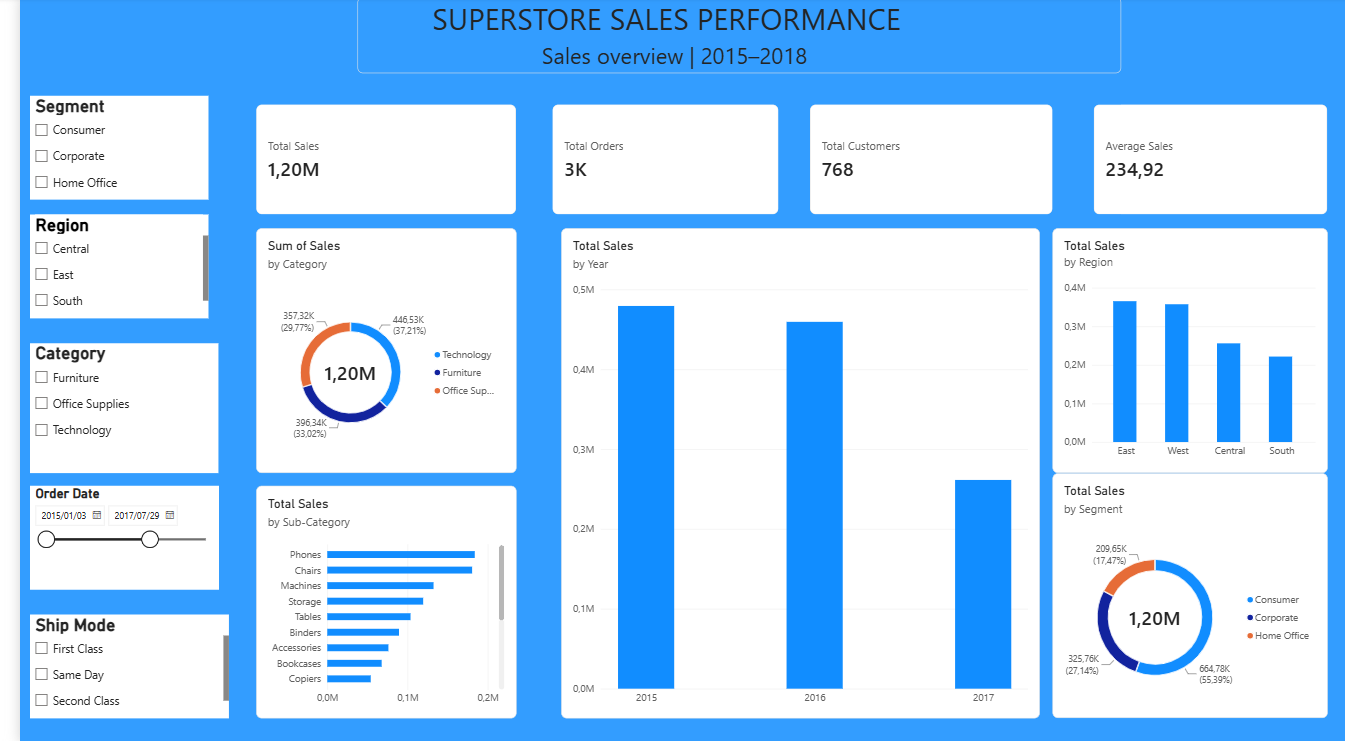

The page's visual inventory and layout, read from the dashboard file:
{"tool":"powerbi","page":{"name":"Page 1","canvas":[1920,1080],"ordinal":0},"visuals":[{"type":"textbox","box":[488.6,0,1105.7,110.4],"z":0},{"type":"cardVisual","fields":{"Data":["Superstore.Total Sales"]},"box":[342,155.6,376.4,159.3],"z":1},{"type":"cardVisual","fields":{"Data":["Superstore.Total Orders"]},"box":[770.9,155.6,327.5,159.3],"z":2},{"type":"cardVisual","fields":{"Data":["Superstore.Total Customers"]},"box":[1143.7,155.6,351.1,159.3],"z":3},{"type":"cardVisual","fields":{"Data":["Superstore.Average Sales"]},"box":[1554.5,155.6,338.4,159.3],"z":4},{"type":"columnChart","fields":{"Category":["Superstore.Order Date.Variation.Date Hierarchy.Year"],"Y":["Superstore.Total Sales"]},"box":[783.6,334.8,693.1,709.4],"z":5},{"type":"donutChart","fields":{"Category":["Superstore.Category"],"Y":["Sum(Superstore.Sales)"]},"box":[342,334.8,376.4,354.7],"z":6},{"type":"columnChart","fields":{"Category":["Superstore.Region"],"Y":["Superstore.Total Sales"]},"box":[1494.8,334.8,398.1,354.7],"z":7},{"type":"donutChart","fields":{"Category":["Superstore.Segment"],"Y":["Superstore.Total Sales"]},"box":[1494.8,689.5,398.1,354.7],"z":8},{"type":"clusteredBarChart","fields":{"Category":["Superstore.Sub-Category"],"Y":["Superstore.Total Sales"]},"box":[342,707.6,376.4,336.6],"z":9},{"type":"slicer","fields":{"Values":["Superstore.Region"]},"box":[14.5,314.9,258.8,150.2],"z":10},{"type":"slicer","fields":{"Values":["Superstore.Category"]},"box":[15.1,502.1,272.7,188.3],"z":11},{"type":"slicer","fields":{"Values":["Superstore.Order Date"]},"box":[15.1,707.7,272.7,149.3],"z":12},{"type":"slicer","fields":{"Values":["Superstore.Segment"]},"box":[14.5,143,258.8,150.2],"z":13},{"type":"slicer","fields":{"Values":["Superstore.Ship Mode"]},"box":[14.5,894,287.7,150.2],"z":14}]}

Visuals, with their boxes in screenshot pixels (x1, y1, x2, y2), scaled from the page's 1920x1080 canvas onto the 1345x741 screenshot:
textbox: select_region(342, 0, 1117, 76)
cardVisual - Superstore.Total Sales: select_region(240, 107, 503, 216)
cardVisual - Superstore.Total Orders: select_region(540, 107, 769, 216)
cardVisual - Superstore.Total Customers: select_region(801, 107, 1047, 216)
cardVisual - Superstore.Average Sales: select_region(1089, 107, 1326, 216)
columnChart - Superstore.Order Date.Variation.Date Hierarchy.Year x Superstore.Total Sales: select_region(549, 230, 1034, 716)
donutChart - Superstore.Category x Sum(Superstore.Sales): select_region(240, 230, 503, 473)
columnChart - Superstore.Region x Superstore.Total Sales: select_region(1047, 230, 1326, 473)
donutChart - Superstore.Segment x Superstore.Total Sales: select_region(1047, 473, 1326, 716)
clusteredBarChart - Superstore.Sub-Category x Superstore.Total Sales: select_region(240, 485, 503, 716)
slicer - Superstore.Region: select_region(10, 216, 191, 319)
slicer - Superstore.Category: select_region(11, 344, 202, 474)
slicer - Superstore.Order Date: select_region(11, 486, 202, 588)
slicer - Superstore.Segment: select_region(10, 98, 191, 201)
slicer - Superstore.Ship Mode: select_region(10, 613, 212, 716)
